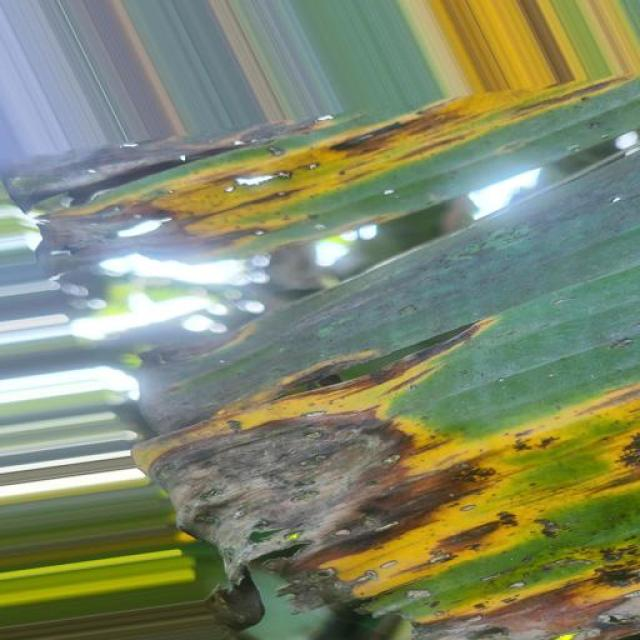Early_rust: (30, 58, 640, 640)
